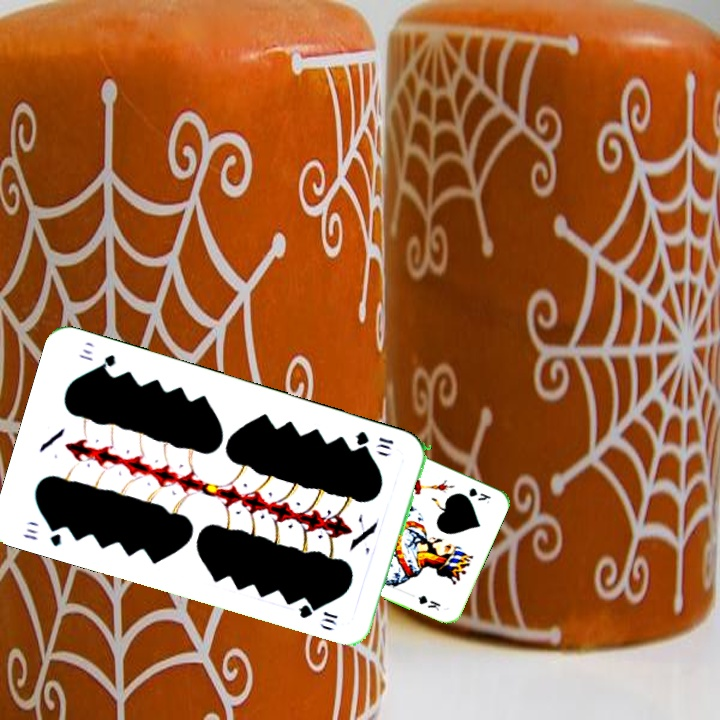G10: (18, 521, 64, 549), (352, 427, 396, 453)
GK: (465, 484, 494, 503)
